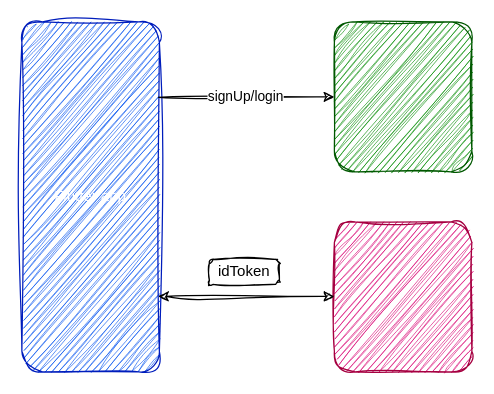
Some shapes in this 494 by 394 pixel diagram are drawn without their labels. Each missing label, with the centre of its shape:
"Backend API" goes at point 402,296.
"Relying Party Server" goes at point 402,96.
